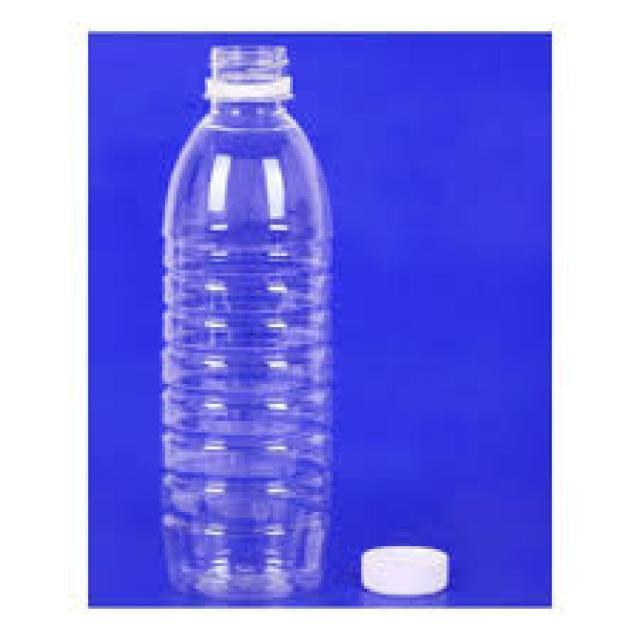Plastic: (163, 49, 330, 594), (357, 544, 449, 600)
